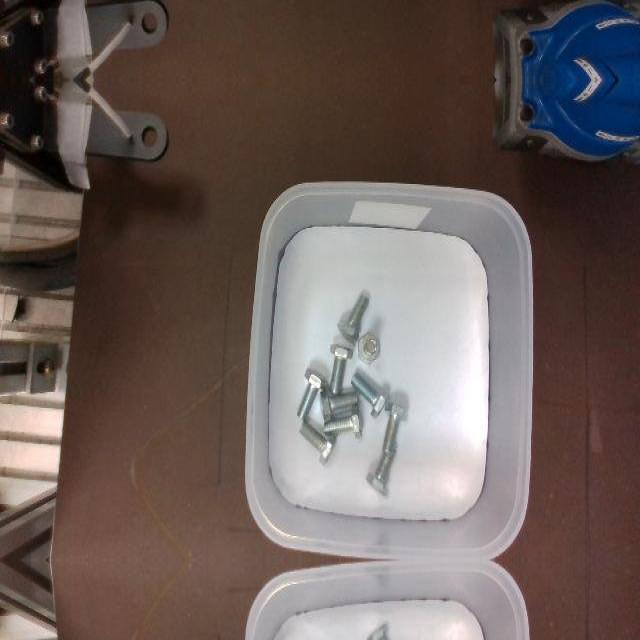screw: (350, 371, 388, 417), (299, 419, 336, 465), (297, 368, 328, 422), (336, 293, 368, 343), (365, 448, 395, 496), (381, 401, 407, 455), (324, 405, 363, 439), (319, 389, 357, 423), (329, 344, 353, 394), (358, 333, 379, 363), (365, 624, 395, 640)
